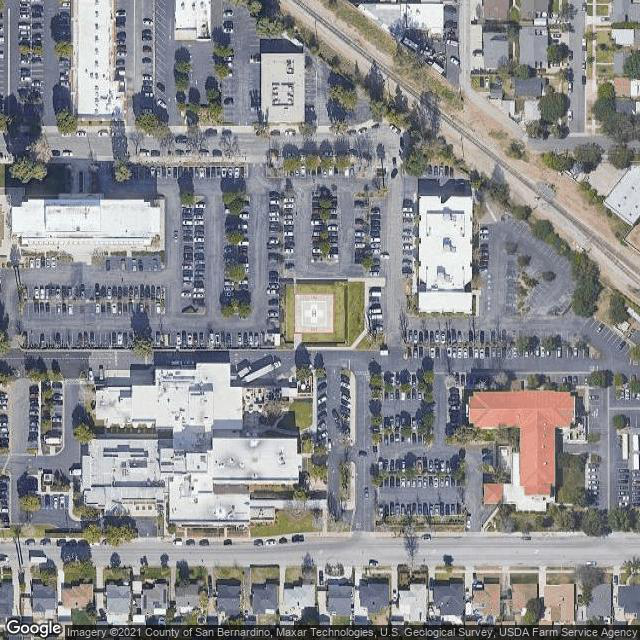Helipad: (300, 297, 331, 327)
